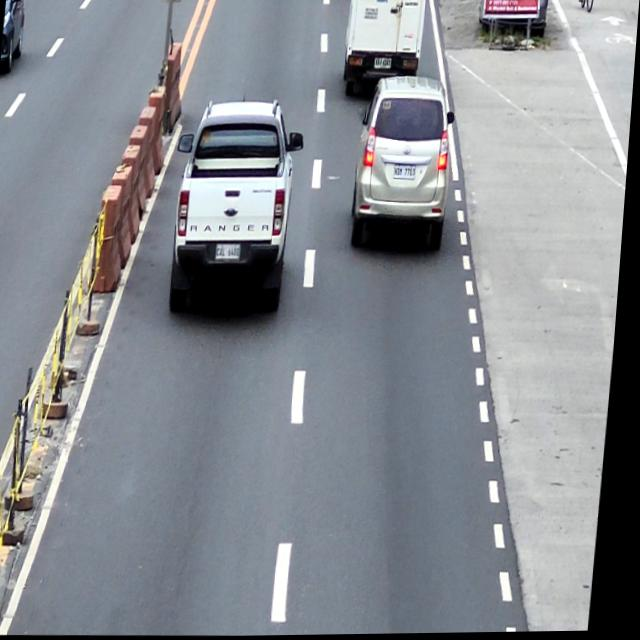Car: (167, 97, 310, 319), (349, 76, 460, 254), (341, 0, 426, 103)
License-Plate: (218, 243, 245, 262), (395, 165, 419, 181), (374, 57, 393, 71)
